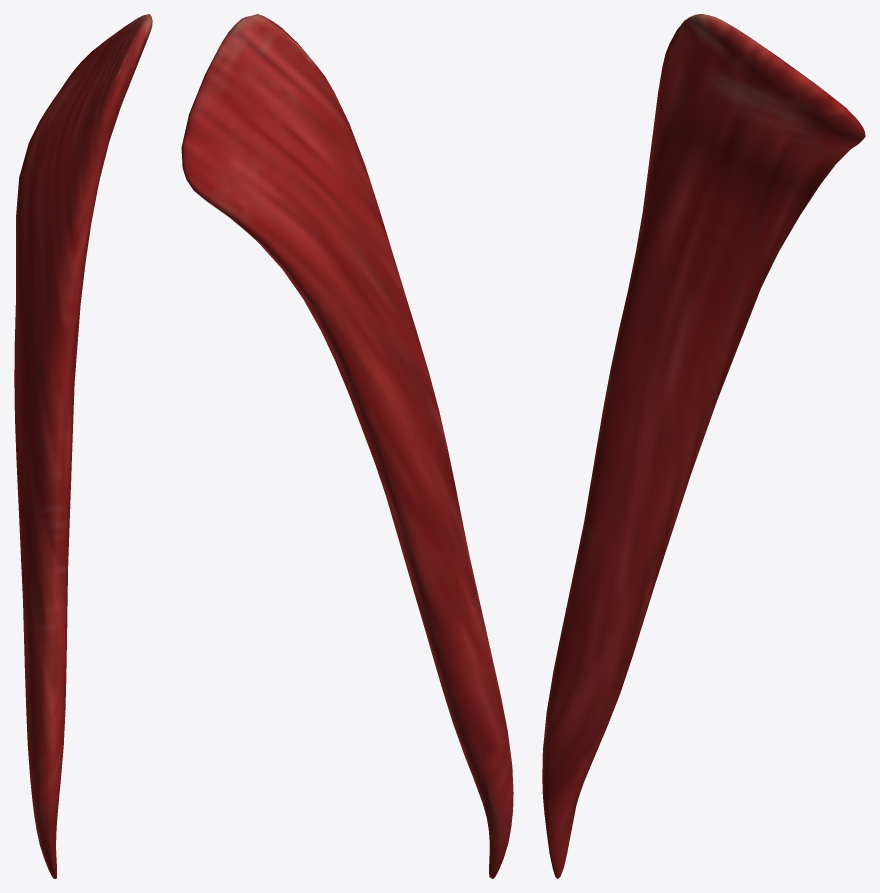
File: R Rectus Femoris.fbx
The picture shows the model from 3 angles, left to right: view 1: azimuth 30°, elevation 25°; view 2: azimuth 150°, elevation 25°; view 3: azimuth 270°, elevation 25°; orthographic projection. The views are drawn at different scales.
Parts seen in each view (by area): view 1: R Rectus Femoris, R Rectus Femoris low, R Rectus Femoris high; view 2: R Rectus Femoris, R Rectus Femoris low, R Rectus Femoris high; view 3: R Rectus Femoris low, R Rectus Femoris, R Rectus Femoris high.
Boxes of the visible parts, x1=… form: R Rectus Femoris: x1=14, y1=14, x2=152, y2=878; R Rectus Femoris low: x1=14, y1=15, x2=151, y2=877; R Rectus Femoris high: x1=14, y1=15, x2=150, y2=868; R Rectus Femoris: x1=181, y1=14, x2=513, y2=878; R Rectus Femoris low: x1=182, y1=16, x2=509, y2=878; R Rectus Femoris high: x1=183, y1=16, x2=511, y2=874; R Rectus Femoris low: x1=543, y1=14, x2=864, y2=875; R Rectus Femoris: x1=542, y1=14, x2=865, y2=878; R Rectus Femoris high: x1=544, y1=16, x2=862, y2=872.
Bounding box in the file's own units: 2.23 × 8.95 × 2.74.
